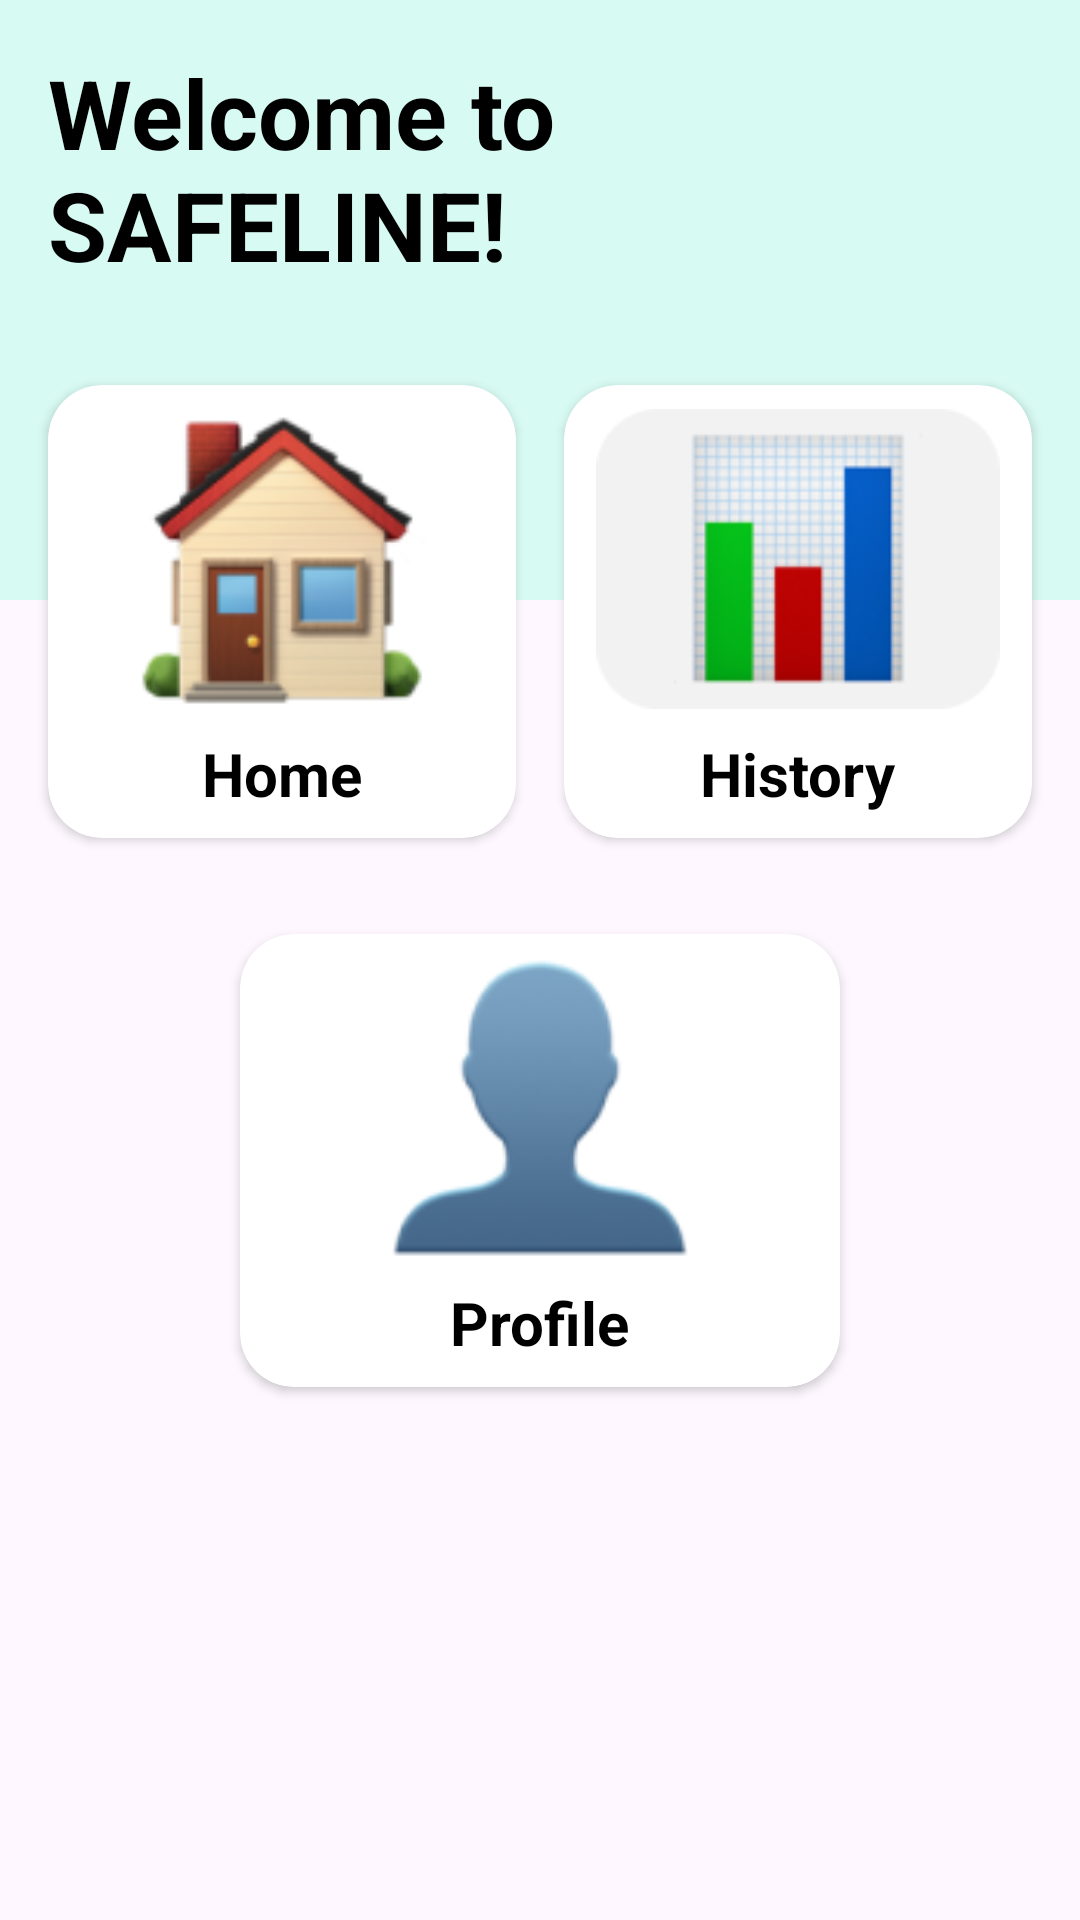

Screen size 1080 x 1920. Icon name, then its center in pixels as (x,y):
metrics: (798,559)
